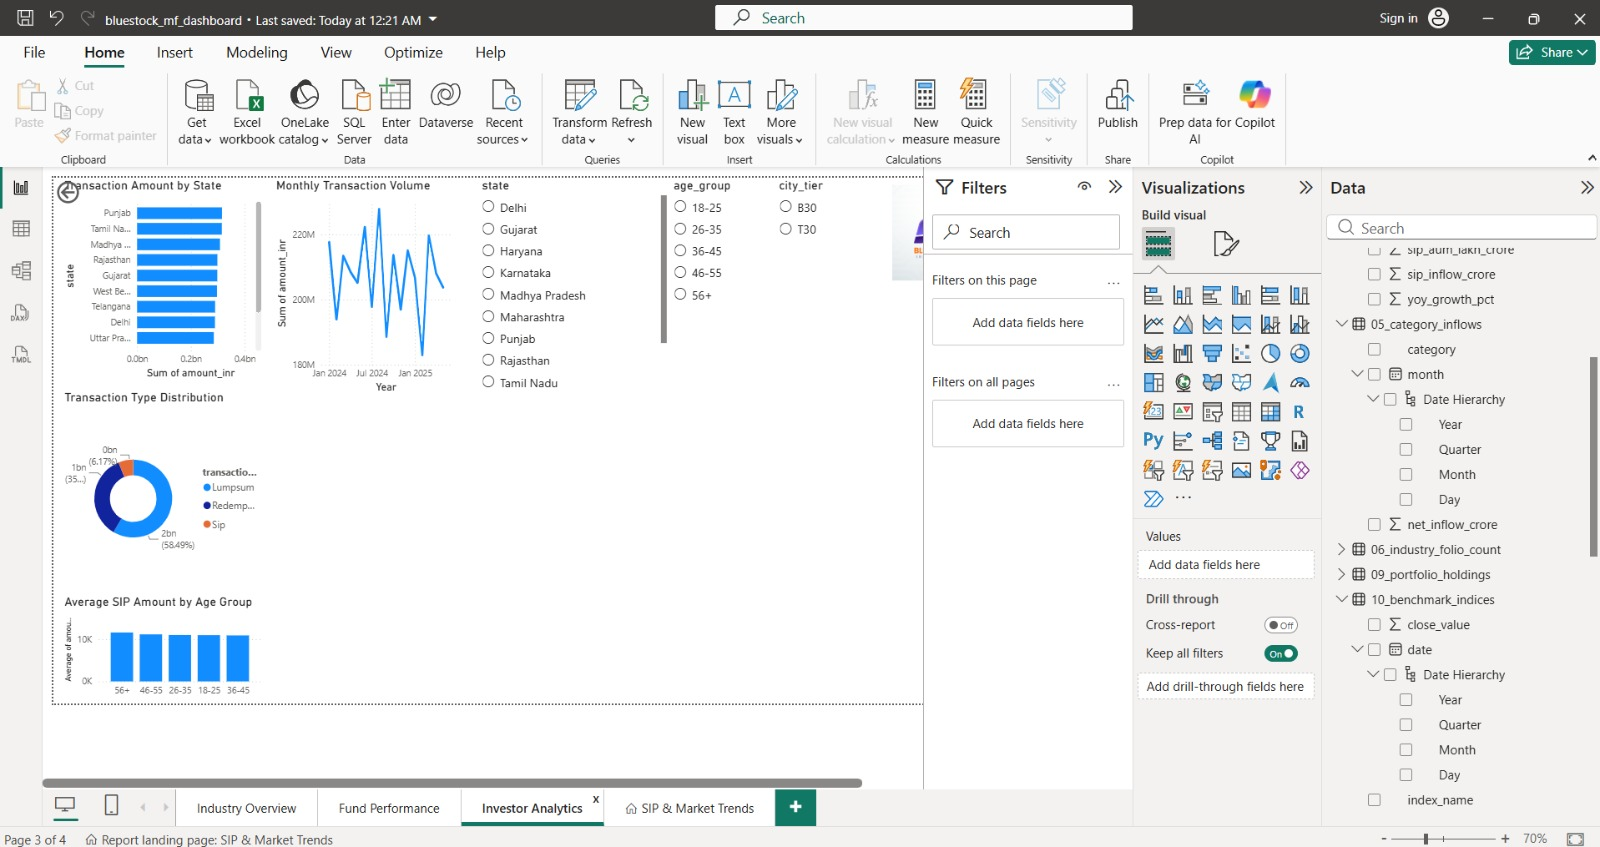

Layout of this report page (visuals, bound fields, positions):
{"tool":"powerbi","page":{"name":"Investor Analytics","canvas":[1280,720],"ordinal":2},"visuals":[{"type":"clusteredBarChart","title":"Transaction Amount by State","fields":{"Category":["clean_investor_transactions.state"],"Y":["Sum(clean_investor_transactions.amount_inr)"]},"box":[10,0,280,280],"z":0},{"type":"donutChart","title":"Transaction Type Distribution","fields":{"Category":["clean_investor_transactions.transaction_type"],"Y":["Sum(clean_investor_transactions.amount_inr)"]},"box":[10,290,280,280],"z":1000},{"type":"clusteredColumnChart","title":"Average SIP Amount by Age Group","fields":{"Category":["clean_investor_transactions.age_group"],"Y":["Avg(clean_investor_transactions.amount_inr)"]},"box":[10,570,280,150],"z":2000},{"type":"actionButton","box":[0,0,100,40],"z":3000},{"type":"lineChart","title":"Monthly Transaction Volume","fields":{"Y":["Sum(clean_investor_transactions.amount_inr)"],"Category":["clean_investor_transactions.transaction_date.Variation.Date Hierarchy.Year","clean_investor_transactions.transaction_date.Variation.Date Hierarchy.Quarter","clean_investor_transactions.transaction_date.Variation.Date Hierarchy.Month"]},"box":[300,0,262.9,300],"z":4000},{"type":"listSlicer","fields":{"Values":["clean_investor_transactions.state"]},"box":[581.5,0,263,300],"z":5000},{"type":"listSlicer","fields":{"Values":["clean_investor_transactions.age_group"]},"box":[844.3,0,127.1,300],"z":6000},{"type":"listSlicer","fields":{"Values":["clean_investor_transactions.city_tier"]},"box":[988.6,0,150,300],"z":7000},{"type":"image","box":[1148.6,0,131.4,150],"z":7501}]}

Visuals, with their boxes on the page's 1280x720 design canvas (x1, y1, x2, y2). These are canvas units, not pixel positions in the 1600x847 screenshot, which may show the page scaled, cropped or inside an application window:
"Transaction Amount by State" clusteredBarChart: <box>10,0,290,280</box>
"Transaction Type Distribution" donutChart: <box>10,290,290,570</box>
"Average SIP Amount by Age Group" clusteredColumnChart: <box>10,570,290,720</box>
actionButton: <box>0,0,100,40</box>
"Monthly Transaction Volume" lineChart: <box>300,0,563,300</box>
listSlicer - clean_investor_transactions.state: <box>582,0,844,300</box>
listSlicer - clean_investor_transactions.age_group: <box>844,0,971,300</box>
listSlicer - clean_investor_transactions.city_tier: <box>989,0,1139,300</box>
image: <box>1149,0,1280,150</box>
